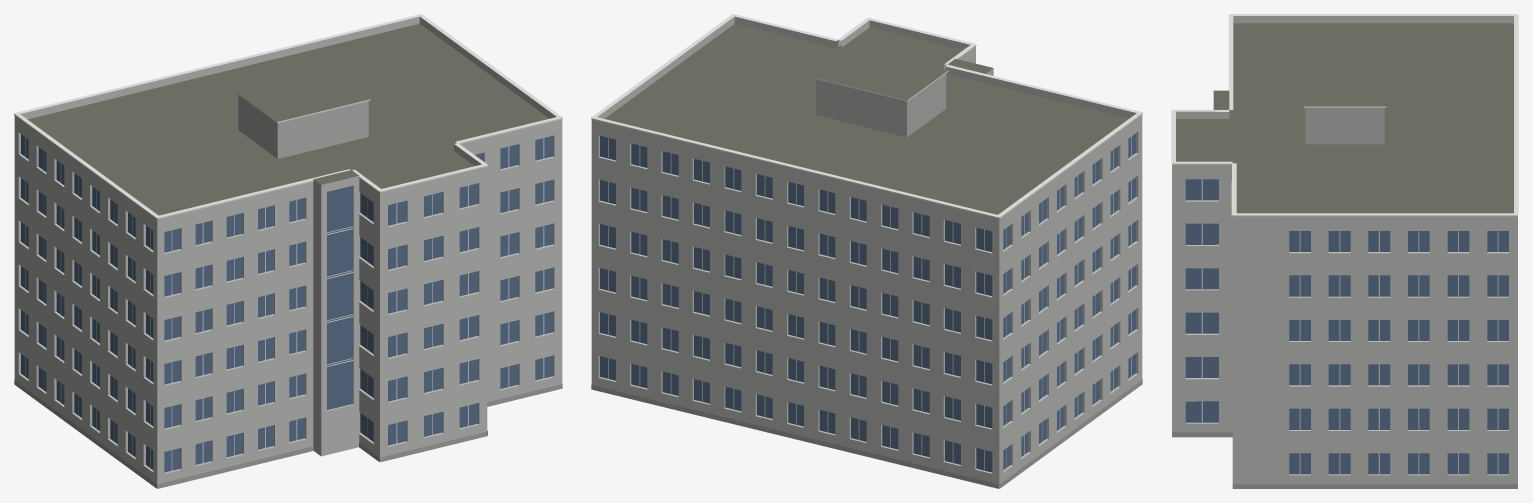
The picture shows the model from 3 angles, left to right: view 1: azimuth 30°, elevation 25°; view 2: azimuth 150°, elevation 25°; view 3: azimuth 270°, elevation 25°; orthographic projection.
Visible parts, largest first — view 1: science__wall, science__roof, science__glass, science__parapet, science__trim, science__wall2, science__frame, science__base; view 2: science__wall, science__roof, science__glass, science__parapet, science__trim, science__wall2, science__frame, science__base; view 3: science__wall, science__roof, science__glass, science__parapet, science__trim, science__wall2, science__base, science__frame.
Boxes of the visible parts, <box> form: science__wall: <box>14,121,562,488</box>; science__roof: <box>27,23,549,215</box>; science__glass: <box>21,134,552,472</box>; science__parapet: <box>14,16,562,224</box>; science__trim: <box>14,14,562,219</box>; science__wall2: <box>238,95,368,158</box>; science__frame: <box>25,137,544,470</box>; science__base: <box>14,379,562,488</box>; science__wall: <box>591,51,1142,488</box>; science__roof: <box>605,23,1128,214</box>; science__glass: <box>600,133,1135,472</box>; science__parapet: <box>591,16,1142,224</box>; science__trim: <box>591,14,1142,218</box>; science__wall2: <box>816,73,946,137</box>; science__frame: <box>608,136,1131,470</box>; science__base: <box>591,379,1142,488</box>; science__wall: <box>1172,109,1517,484</box>; science__roof: <box>1176,23,1513,213</box>; science__glass: <box>1185,179,1508,474</box>; science__parapet: <box>1172,16,1517,221</box>; science__trim: <box>1171,14,1518,216</box>; science__wall2: <box>1305,108,1384,144</box>; science__base: <box>1172,432,1517,488</box>; science__frame: <box>1201,179,1498,474</box>.
Size of the model in its own units: 35.94 by 25.4 by 26.22.
